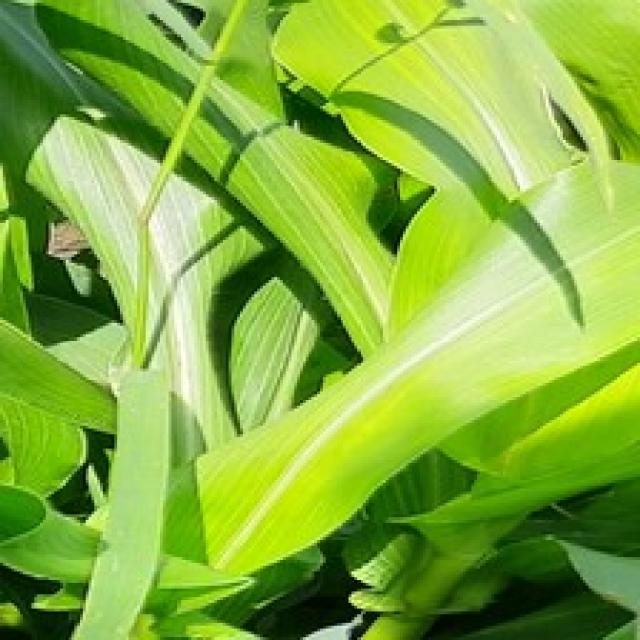Corn: (0, 0, 637, 637), (192, 151, 637, 580)
